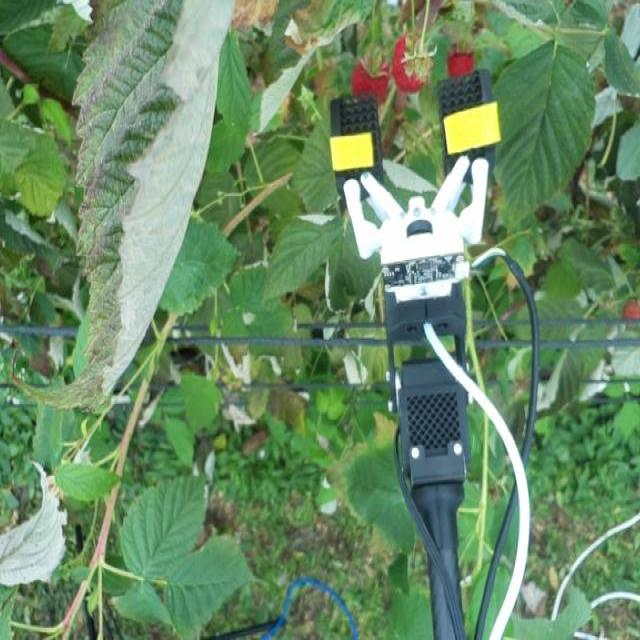Riped berries: (389, 29, 435, 92), (349, 51, 387, 100), (446, 34, 482, 84)
